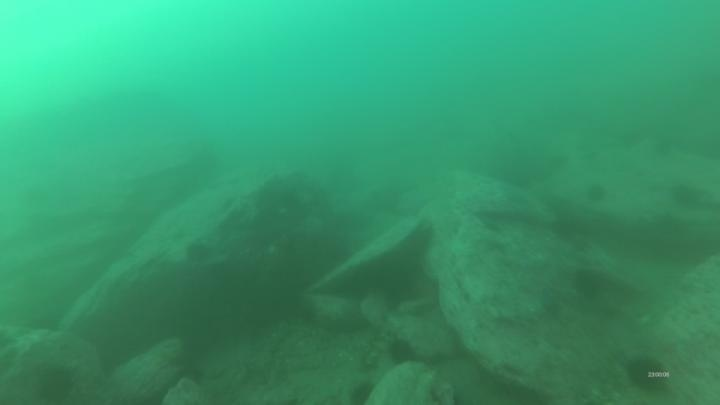echinus: (623, 353, 673, 395), (32, 362, 78, 404), (569, 265, 607, 302), (667, 180, 706, 213), (385, 335, 419, 369), (182, 238, 215, 268), (346, 378, 378, 405), (586, 177, 607, 203), (623, 129, 644, 154), (654, 135, 675, 160)
